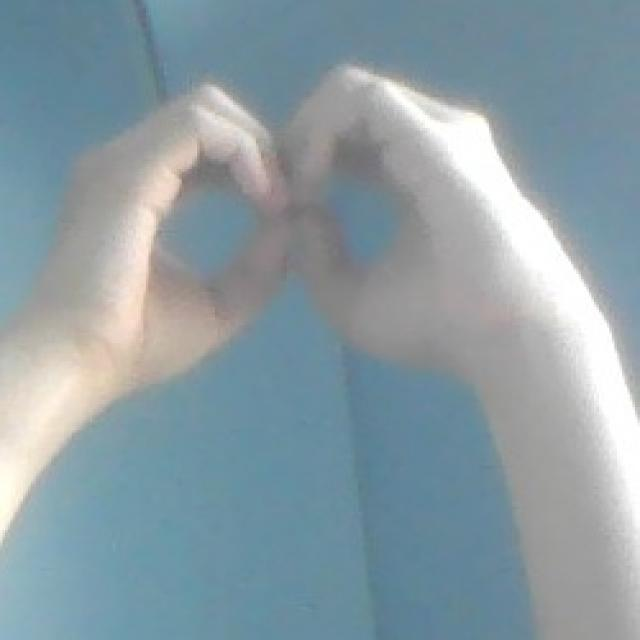Alphabet-B: (33, 48, 564, 376)
